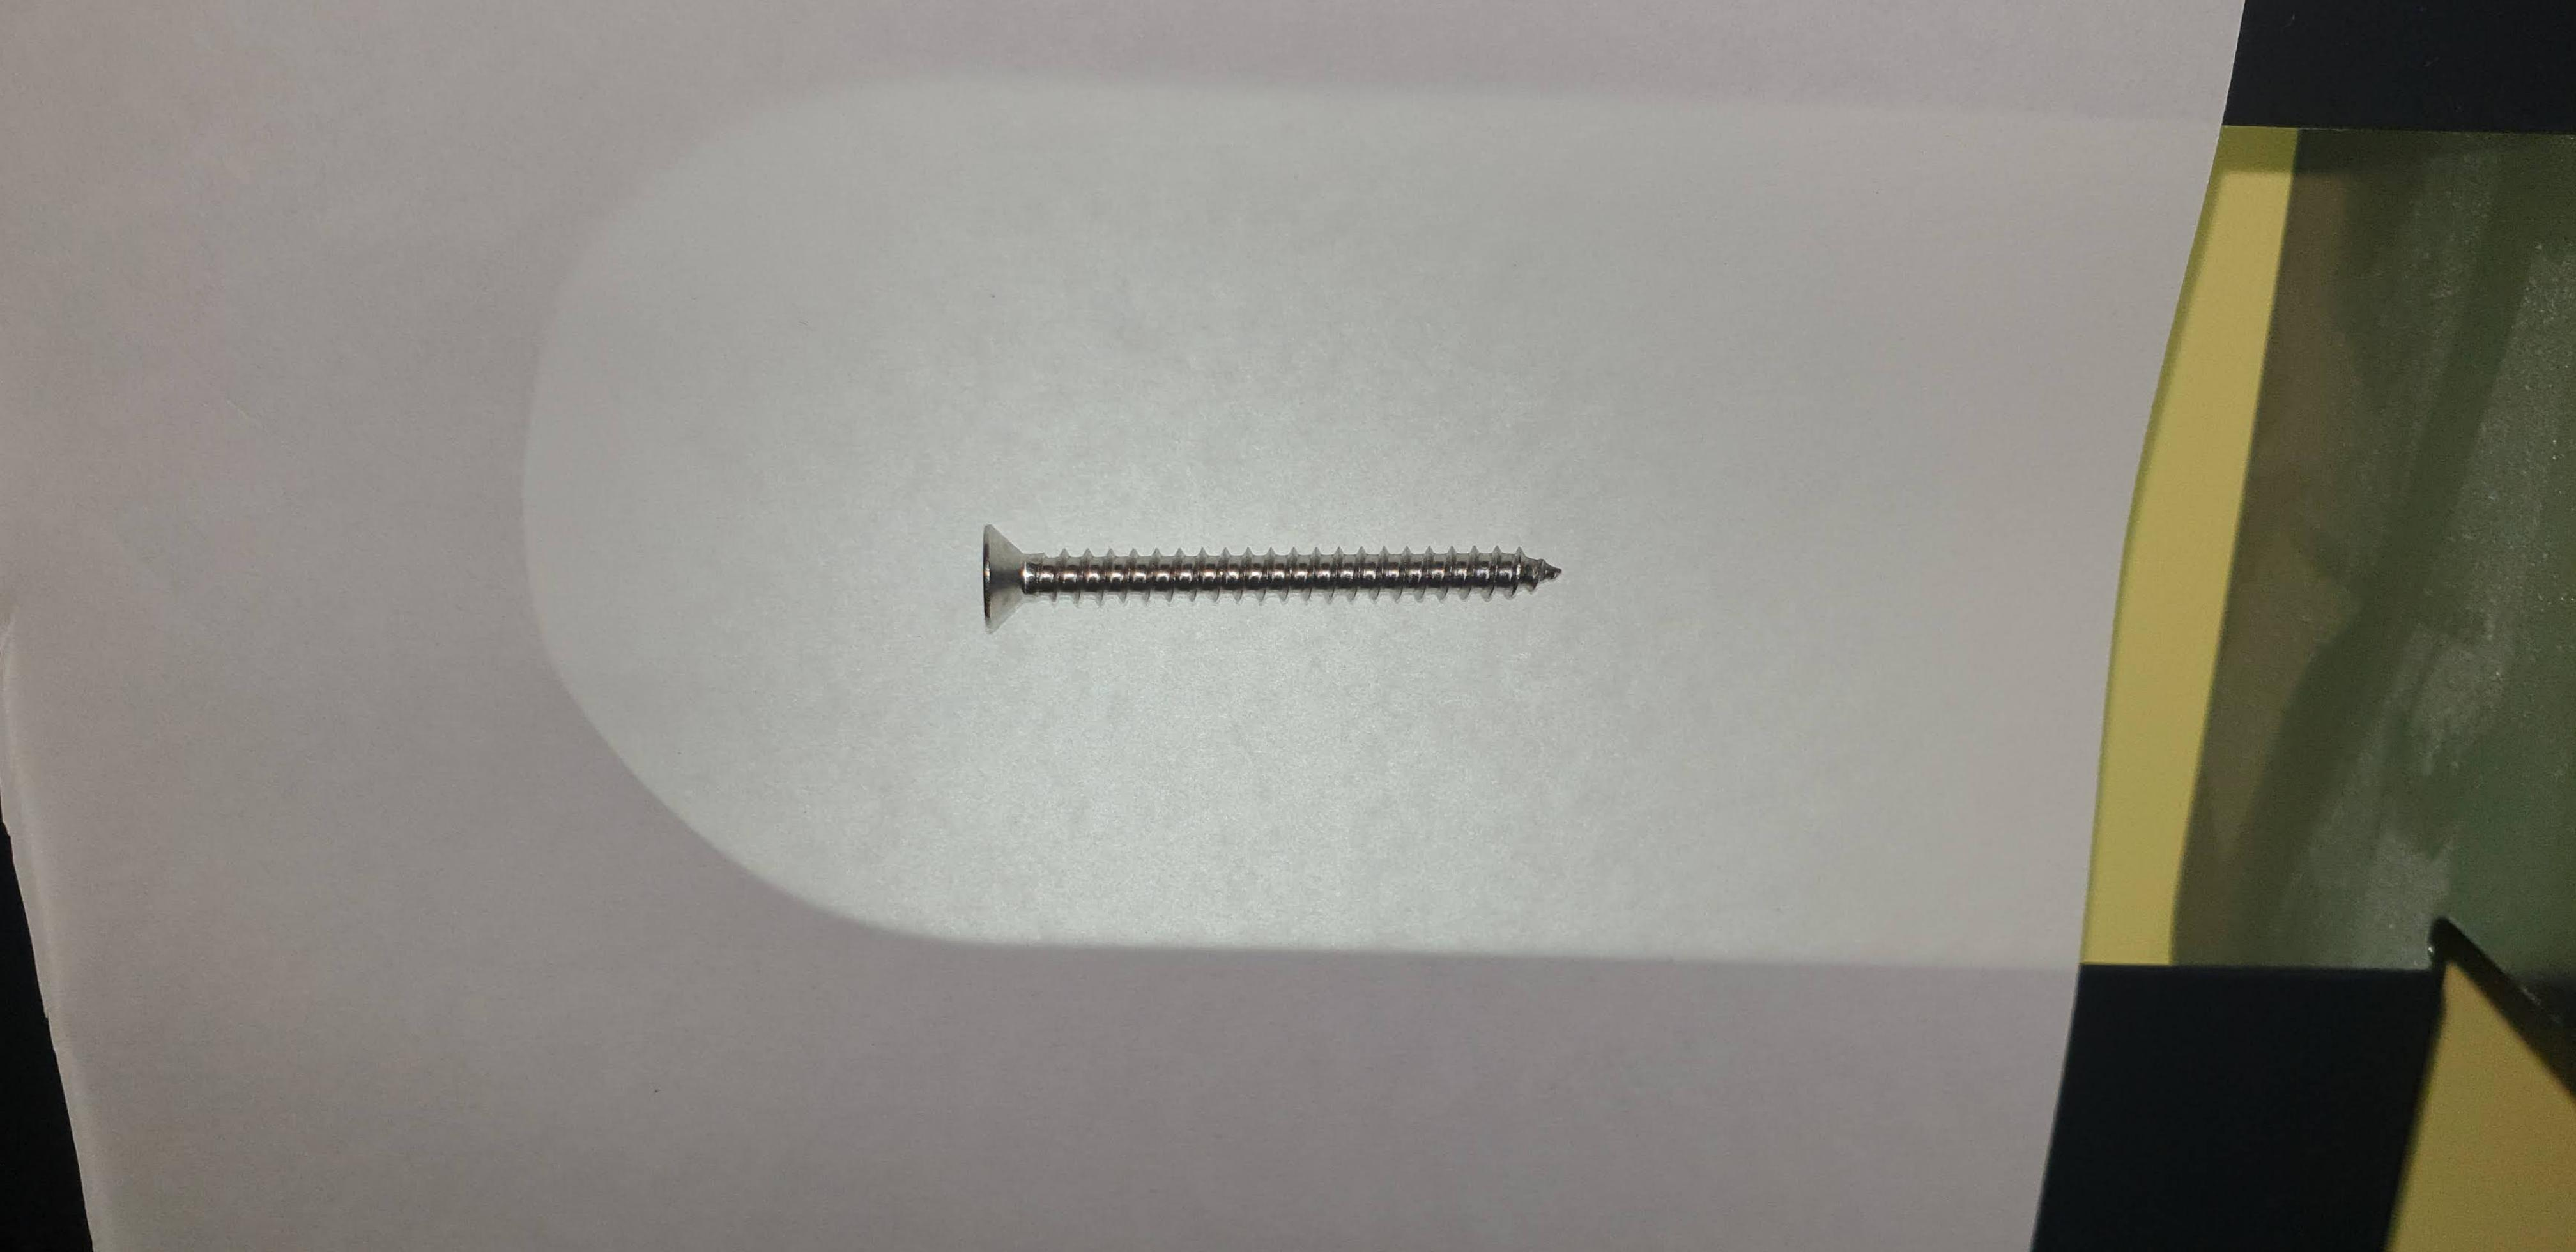fastener: (923, 453, 1663, 680)
